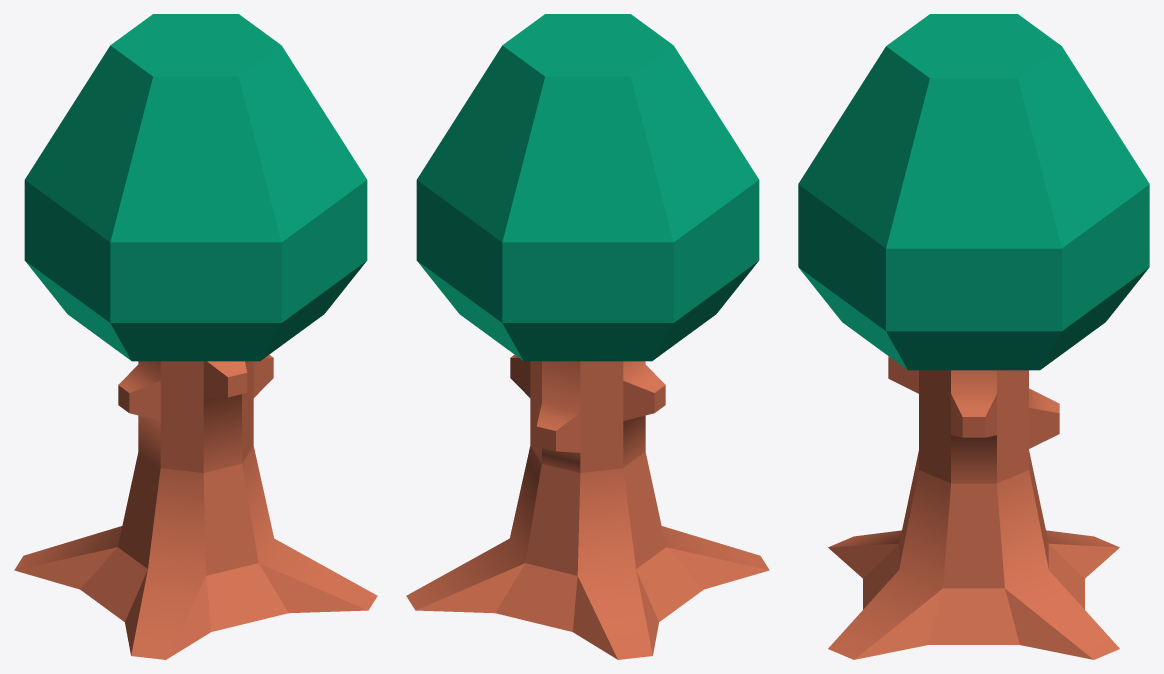
The model's file is Tree_1.fbx.
3 renders of one model, left to right at view 1: azimuth 30°, elevation 25°; view 2: azimuth 150°, elevation 25°; view 3: azimuth 270°, elevation 25°, orthographic. The views are drawn at different scales.
Parts seen in each view (by area): view 1: mergedBlocks; view 2: mergedBlocks; view 3: mergedBlocks.
Boxes of the visible parts, box(x1,y1,x2,y2) form: mergedBlocks: box(14, 14, 377, 659); mergedBlocks: box(406, 14, 769, 659); mergedBlocks: box(798, 14, 1149, 659).
Size of the model in its own units: 10 by 20 by 11.55.
